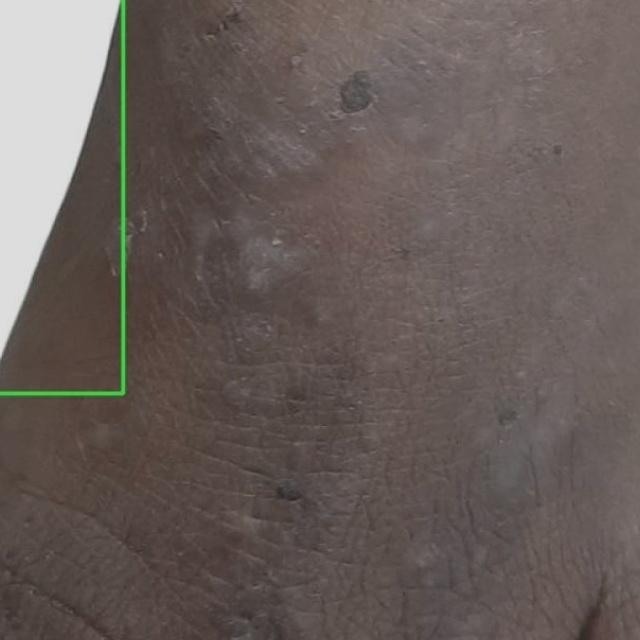Contact Dermatitis: (0, 0, 123, 393)
